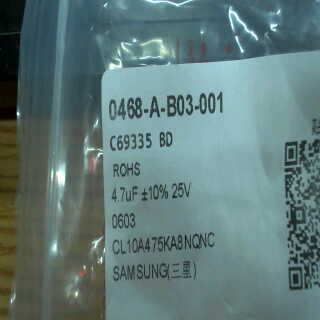4.7uF: (108, 182, 140, 208)
